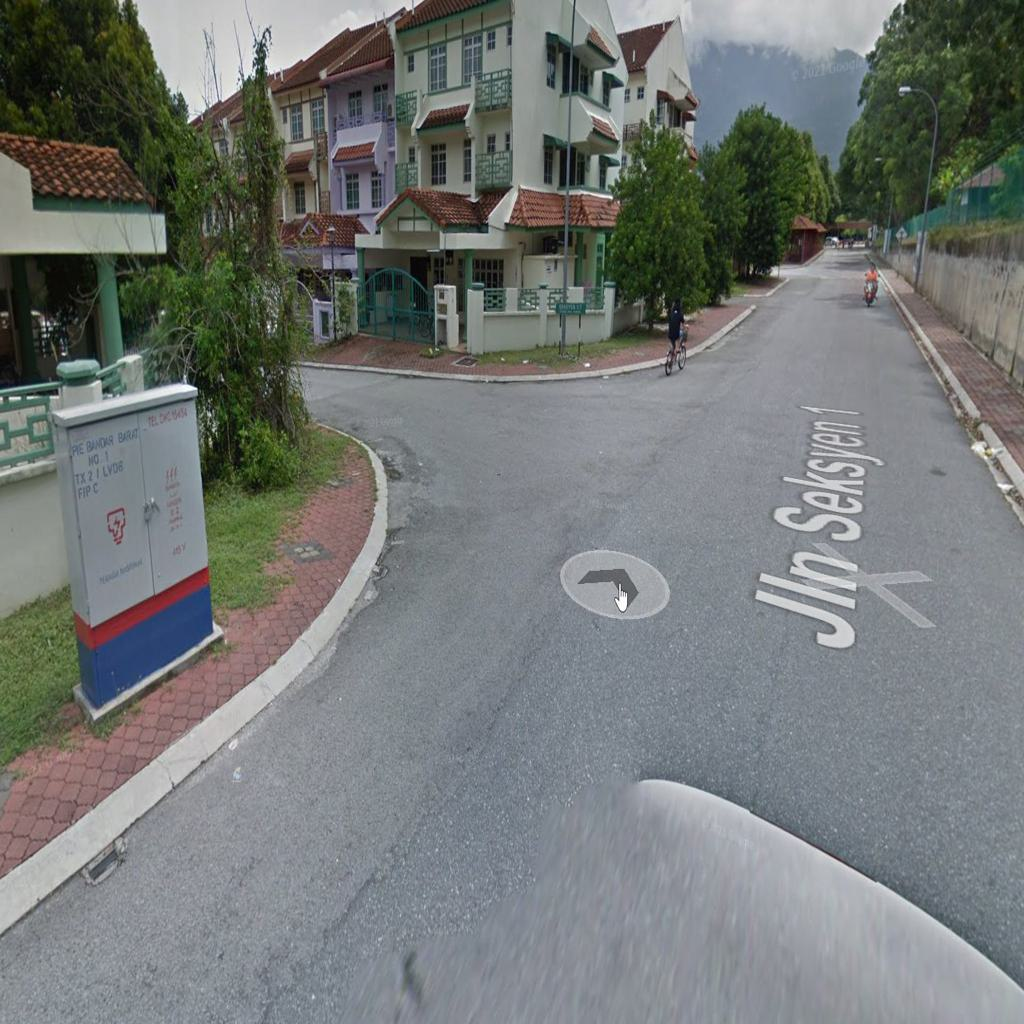Junction: (312, 351, 683, 602)
